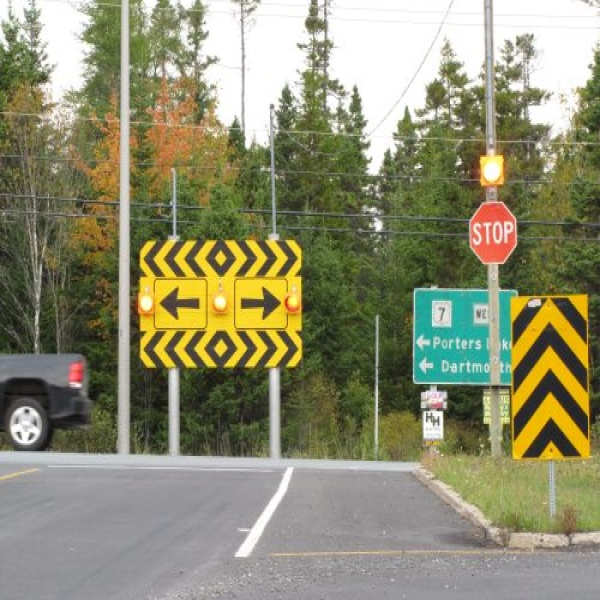stop: (468, 202, 520, 269)
